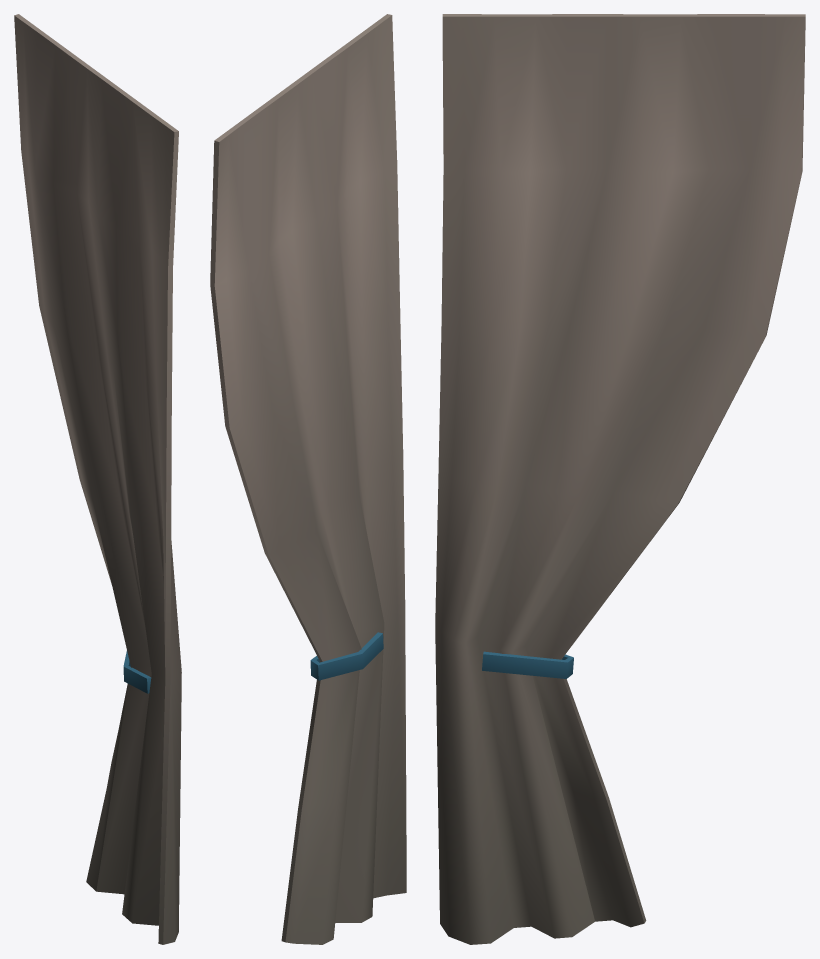
The model's file is TSP_Curtain_01A.R.fbx.
3 views of the same model, side by side, from view 1: azimuth 30°, elevation 25°; view 2: azimuth 150°, elevation 25°; view 3: azimuth 270°, elevation 25° (orthographic). The views are drawn at different scales.
Visible parts, largest first — view 1: TSP_Curtain_01A.R; view 2: TSP_Curtain_01A.R; view 3: TSP_Curtain_01A.R.
Part boxes in pixels (x1,y1,x2,y2): TSP_Curtain_01A.R: (14,14,181,944); TSP_Curtain_01A.R: (210,14,406,944); TSP_Curtain_01A.R: (435,14,805,944).
Size of the model in its own units: 0.1128 by 2.49 by 0.9088.
